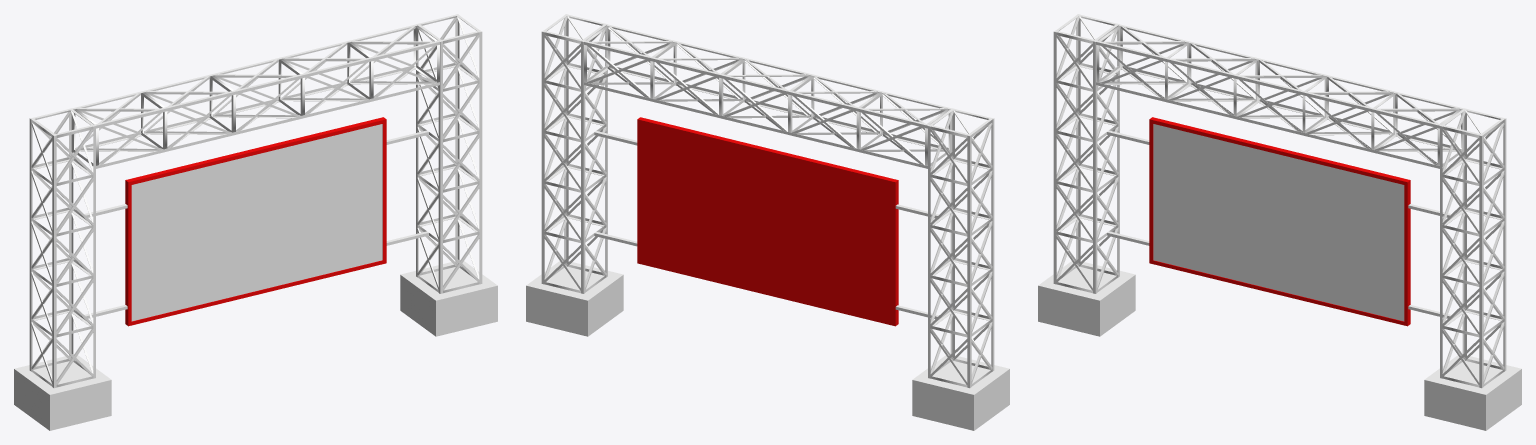
File: Billboard_6.fbx
The picture shows the model from 3 angles, left to right: view 1: azimuth 30°, elevation 25°; view 2: azimuth 150°, elevation 25°; view 3: azimuth 330°, elevation 25°; orthographic projection.
Visible parts, largest first — view 1: Billboard_6; view 2: Billboard_6; view 3: Billboard_6.
Boxes of the visible parts, x1=… form: Billboard_6: x1=14, y1=14, x2=497, y2=430; Billboard_6: x1=526, y1=14, x2=1009, y2=430; Billboard_6: x1=1038, y1=14, x2=1521, y2=430.
Bounding box in the file's own units: 1302 × 800 × 180.
